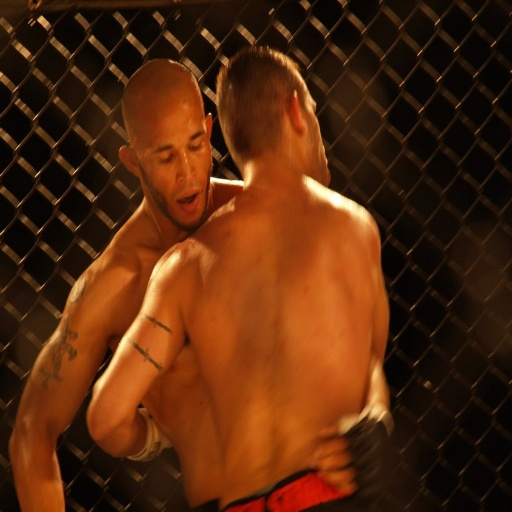hand: (311, 413, 392, 494)
